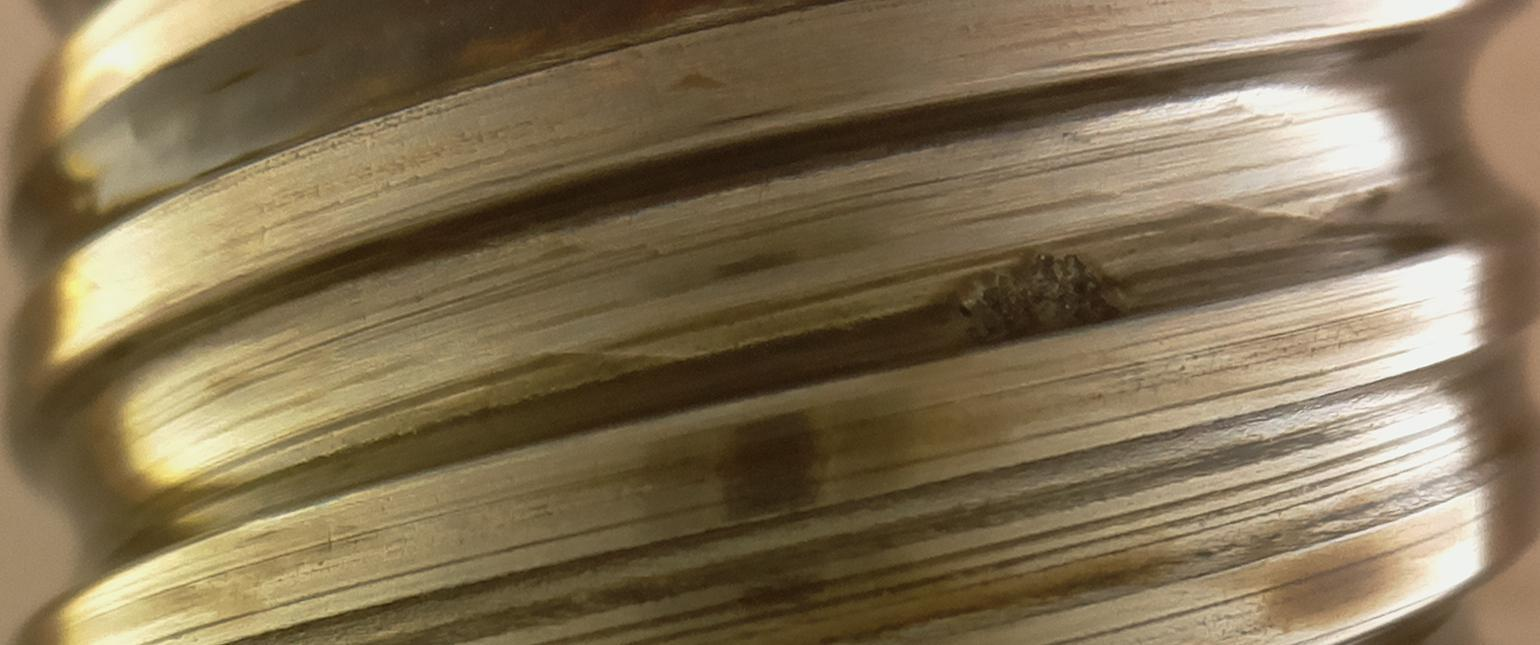pitting: (966, 252, 1129, 349)
